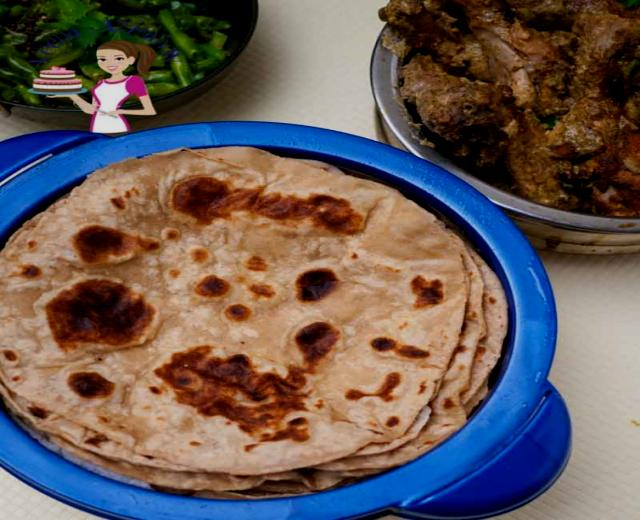chapati: (0, 146, 487, 497)
